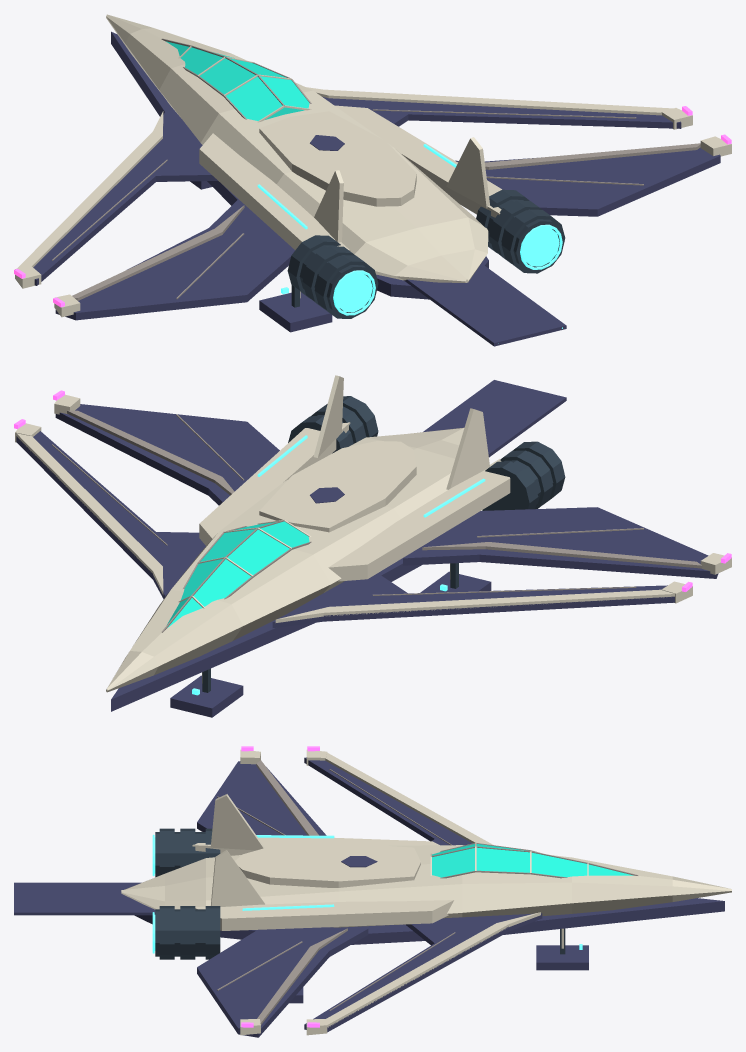
The model's file is aurora.glb.
The picture shows the model from 3 angles, top to bottom: view 1: azimuth 30°, elevation 25°; view 2: azimuth 150°, elevation 25°; view 3: azimuth 270°, elevation 25°; orthographic projection. The views are drawn at different scales.
Parts seen in each view (by area): view 1: AURORA · mirrored ivory fuselage, Aft wings · independent mirrored pair, Fore wings · independent mirrored pair, Dorsal center armor, Rear boarding ramp, Fore wing ivory leading edges, Engine shoulder armor -1, Emerald canopy, Engine shoulder armor 1, Aft wing titanium spars, Indigo keel, Landing foot.001 (+12 smaller); view 2: Aft wings · independent mirrored pair, AURORA · mirrored ivory fuselage, Fore wings · independent mirrored pair, Dorsal center armor, Engine shoulder armor -1, Fore wing ivory leading edges, Emerald canopy, Rear boarding ramp, Engine shoulder armor 1, Indigo keel, Aft wing titanium spars, Vertical stabilizer -1 (+8 smaller); view 3: AURORA · mirrored ivory fuselage, Aft wings · independent mirrored pair, Fore wings · independent mirrored pair, Dorsal center armor, Engine shoulder armor 1, Indigo keel, Rear boarding ramp, Fore wing ivory leading edges, Emerald canopy, Vertical stabilizer 1, Vertical stabilizer -1, Aft wing titanium spars (+9 smaller).
Boxes of the visible parts, <box> form: AURORA · mirrored ivory fuselage: <box>106,14,488,282</box>; Aft wings · independent mirrored pair: <box>55,147,720,320</box>; Fore wings · independent mirrored pair: <box>33,96,681,285</box>; Dorsal center armor: <box>259,111,416,206</box>; Rear boarding ramp: <box>404,263,566,346</box>; Fore wing ivory leading edges: <box>17,87,672,268</box>; Engine shoulder armor -1: <box>199,133,350,250</box>; Emerald canopy: <box>166,41,309,120</box>; Engine shoulder armor 1: <box>335,105,501,217</box>; Aft wing titanium spars: <box>72,143,700,300</box>; Indigo keel: <box>111,31,488,299</box>; Landing foot.001: <box>259,292,332,332</box>; Aft wings · independent mirrored pair: <box>55,404,718,578</box>; AURORA · mirrored ivory fuselage: <box>106,427,464,692</box>; Fore wings · independent mirrored pair: <box>16,431,674,627</box>; Dorsal center armor: <box>259,441,416,532</box>; Engine shoulder armor -1: <box>328,459,510,581</box>; Fore wing ivory leading edges: <box>16,433,674,622</box>; Emerald canopy: <box>167,521,309,627</box>; Rear boarding ramp: <box>423,380,566,457</box>; Engine shoulder armor 1: <box>199,422,350,545</box>; Indigo keel: <box>111,554,422,711</box>; Aft wing titanium spars: <box>67,410,702,568</box>; Vertical stabilizer -1: <box>446,408,489,489</box>; AURORA · mirrored ivory fuselage: <box>121,845,731,927</box>; Aft wings · independent mirrored pair: <box>197,761,368,1037</box>; Fore wings · independent mirrored pair: <box>304,757,542,1032</box>; Dorsal center armor: <box>235,842,420,887</box>; Engine shoulder armor 1: <box>195,900,453,930</box>; Indigo keel: <box>134,898,724,944</box>; Rear boarding ramp: <box>14,882,155,915</box>; Fore wing ivory leading edges: <box>325,752,540,1027</box>; Emerald canopy: <box>432,844,633,877</box>; Vertical stabilizer 1: <box>211,850,264,906</box>; Vertical stabilizer -1: <box>210,794,264,850</box>; Aft wing titanium spars: <box>256,760,347,1024</box>.
Size of the model in its own units: 28.77 by 6.72 by 31.4.
